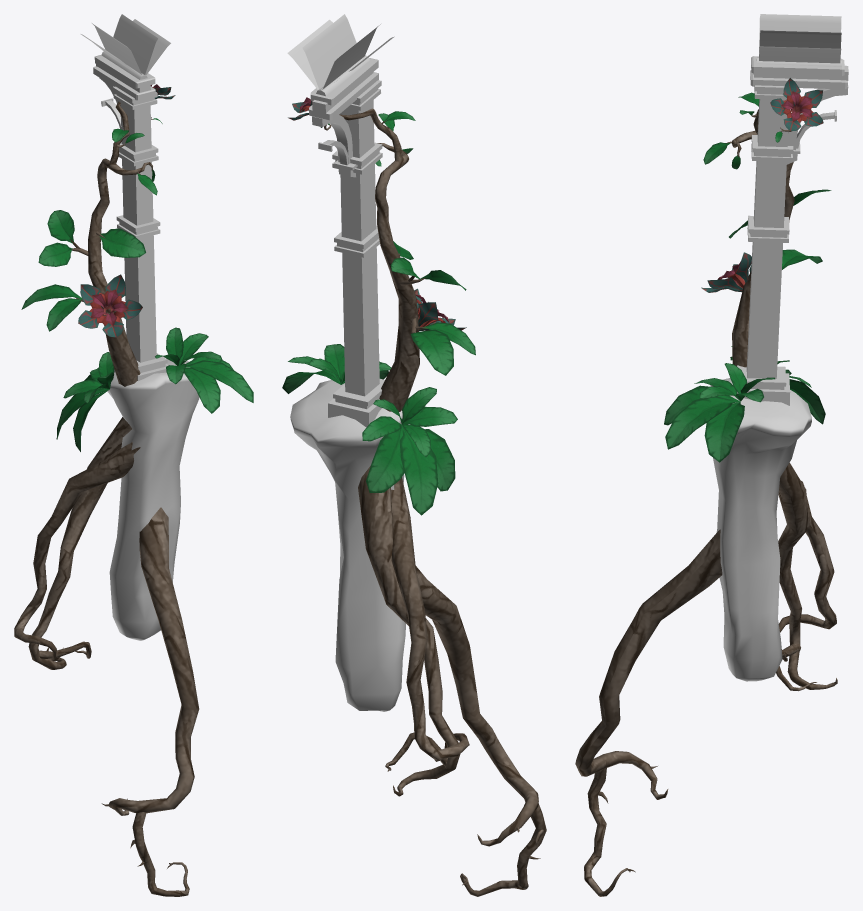
File: spikesDotPlant.obj
The picture shows the model from 3 angles, left to right: view 1: azimuth 30°, elevation 25°; view 2: azimuth 150°, elevation 25°; view 3: azimuth 270°, elevation 25°; orthographic projection. The views are drawn at different scales.
Visible parts, largest first — view 1: spikesDotPlant PlatfprmsAndSpikes; view 2: spikesDotPlant PlatfprmsAndSpikes; view 3: spikesDotPlant PlatfprmsAndSpikes.
Boxes of the visible parts, bbox=[...] form: spikesDotPlant PlatfprmsAndSpikes: bbox=[14, 14, 253, 896]; spikesDotPlant PlatfprmsAndSpikes: bbox=[282, 14, 546, 896]; spikesDotPlant PlatfprmsAndSpikes: bbox=[575, 14, 848, 896].
Bounding box in the file's own units: 10.59 × 42.67 × 11.88.
